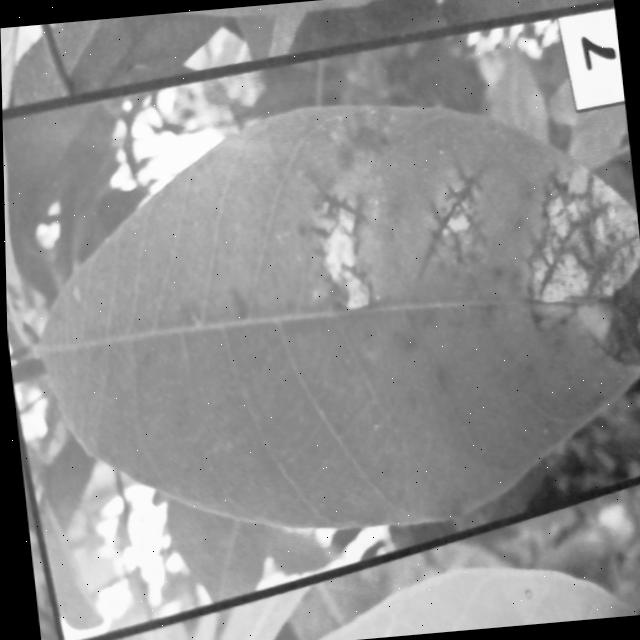Corynespora: (407, 159, 500, 272), (530, 222, 580, 294)
Leaf-Blight: (516, 170, 640, 304), (321, 206, 376, 308)
